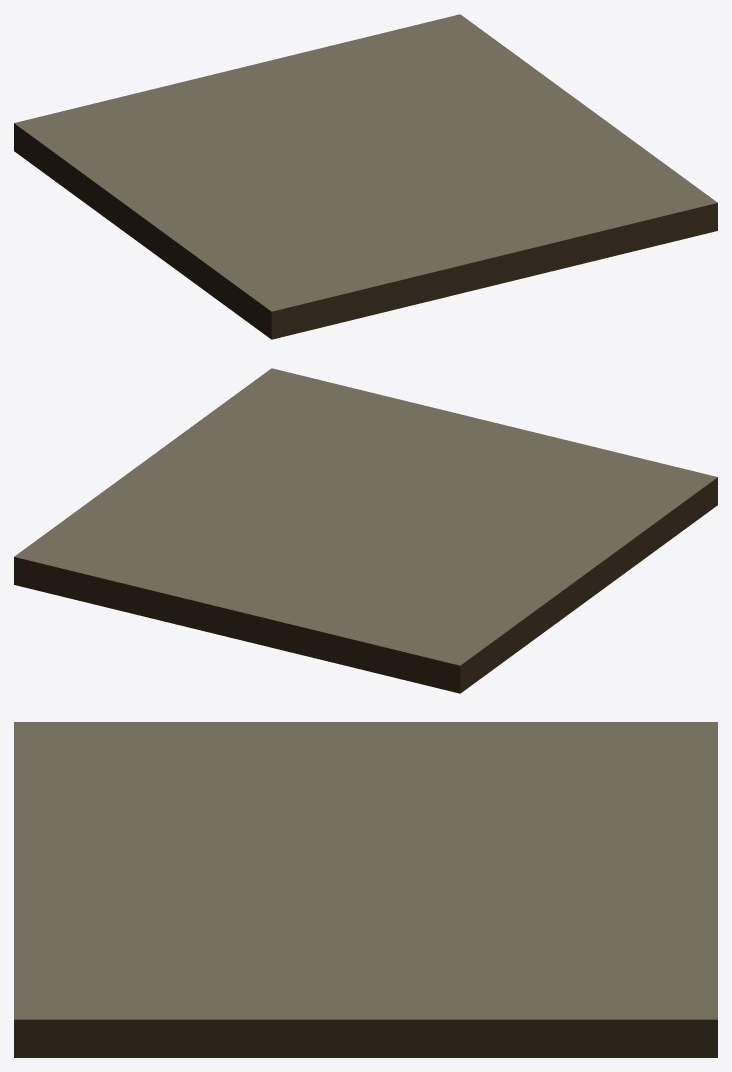
File: SecondFloor_10x10_30cmBeams_2mSpacing.fbx
The picture shows the model from 3 angles, top to bottom: view 1: azimuth 30°, elevation 25°; view 2: azimuth 150°, elevation 25°; view 3: azimuth 270°, elevation 25°; orthographic projection. The views are drawn at different scales.
Parts seen in each view (by area): view 1: SecondFloor_10x10_30cmBeams_2mSpacing; view 2: SecondFloor_10x10_30cmBeams_2mSpacing; view 3: SecondFloor_10x10_30cmBeams_2mSpacing.
Boxes of the visible parts, x1=… form: SecondFloor_10x10_30cmBeams_2mSpacing: x1=14, y1=14, x2=717, y2=339; SecondFloor_10x10_30cmBeams_2mSpacing: x1=14, y1=368, x2=717, y2=693; SecondFloor_10x10_30cmBeams_2mSpacing: x1=14, y1=722, x2=717, y2=1057.
Size of the model in its own units: 10 by 0.6 by 10.
